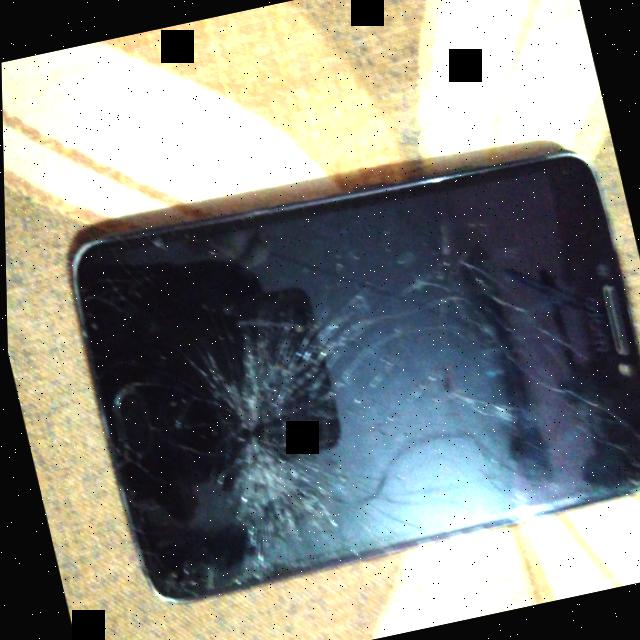Crack: (52, 112, 637, 609)
